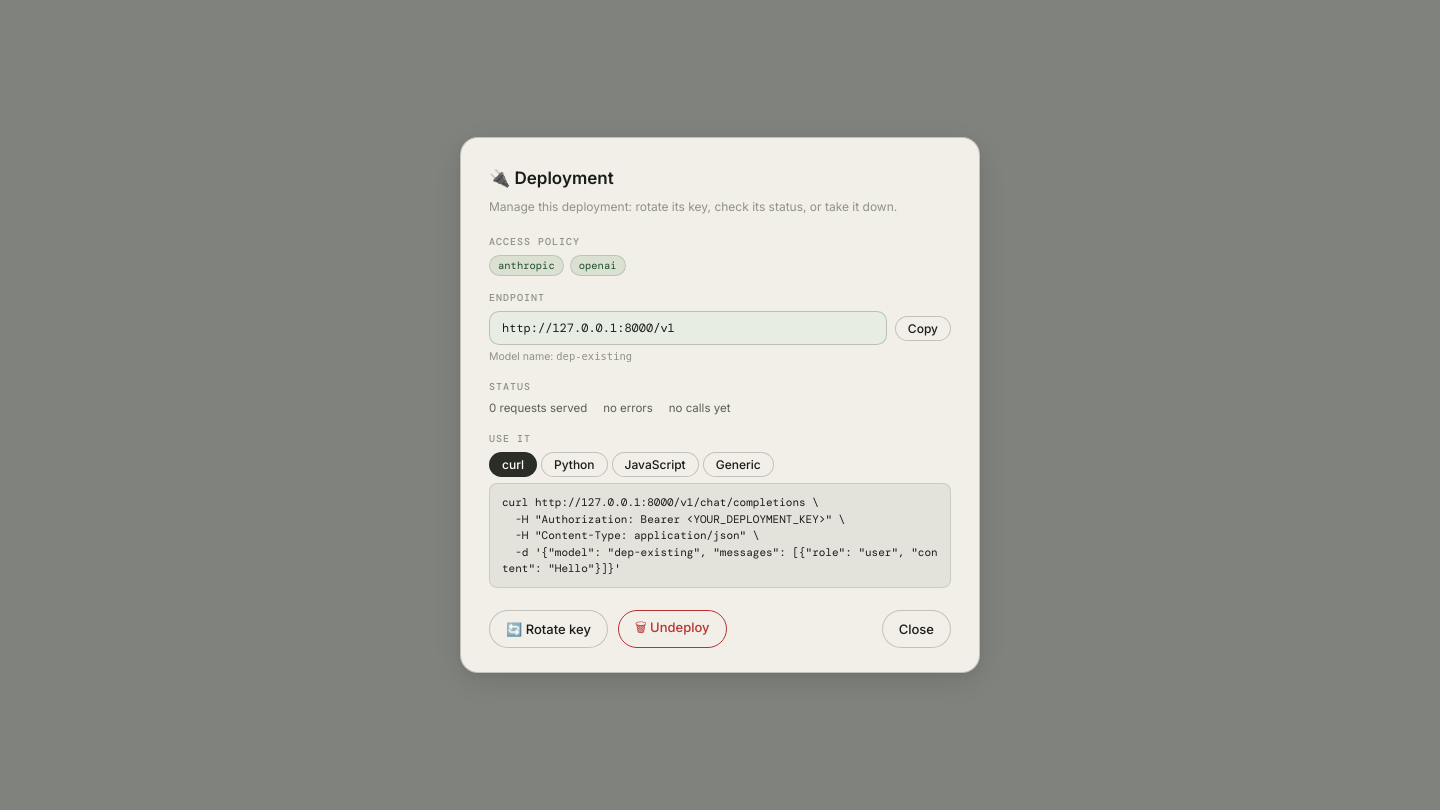
DeployModal — manage mode › rotate-key reveals a fresh one-time key
Click the button with test id "deploy-rotate": {"x": 548, "y": 629} [489,610,608,648]
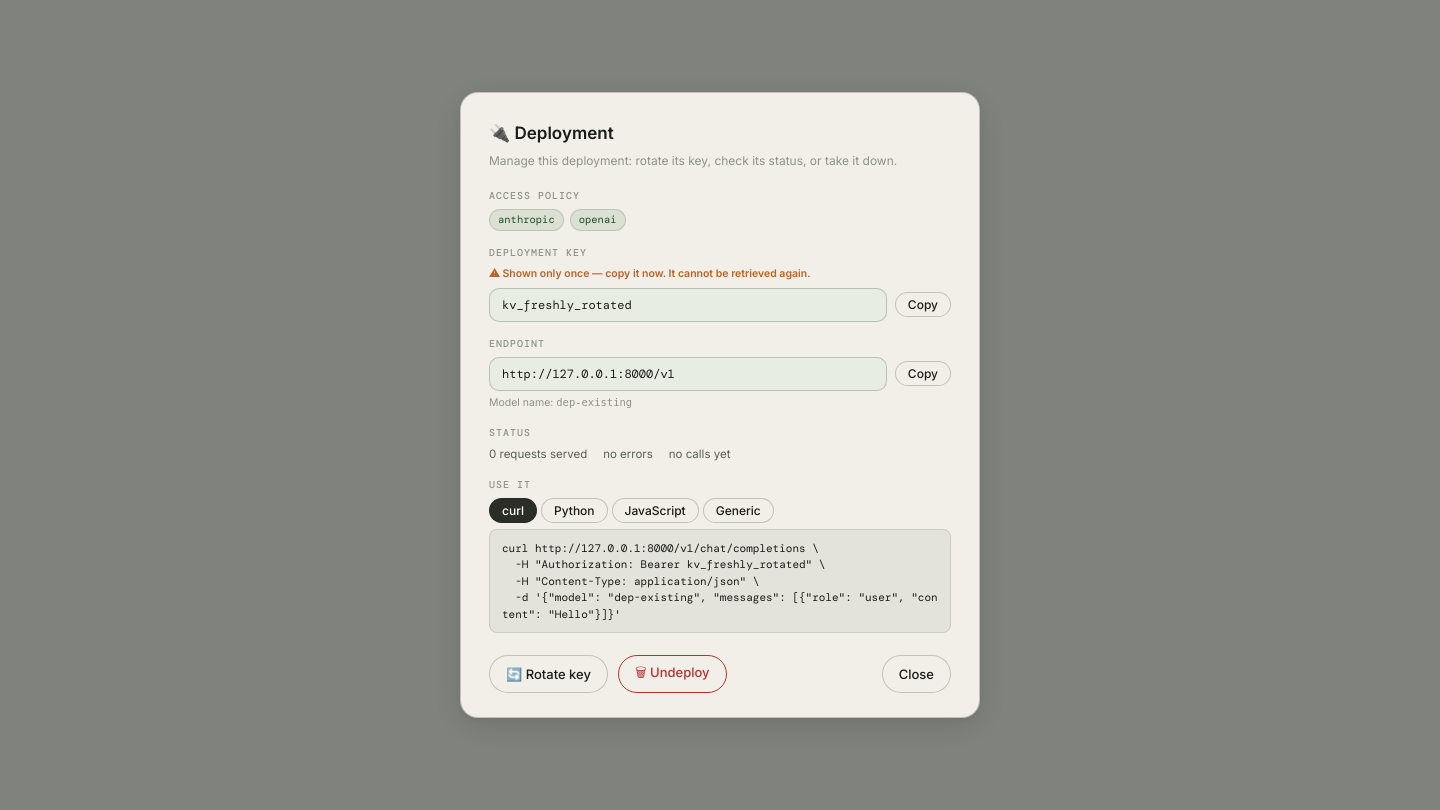
Check: the field with test id "deploy-key-value" holds "kv_freshly_rotated", box [489,288,887,322]
